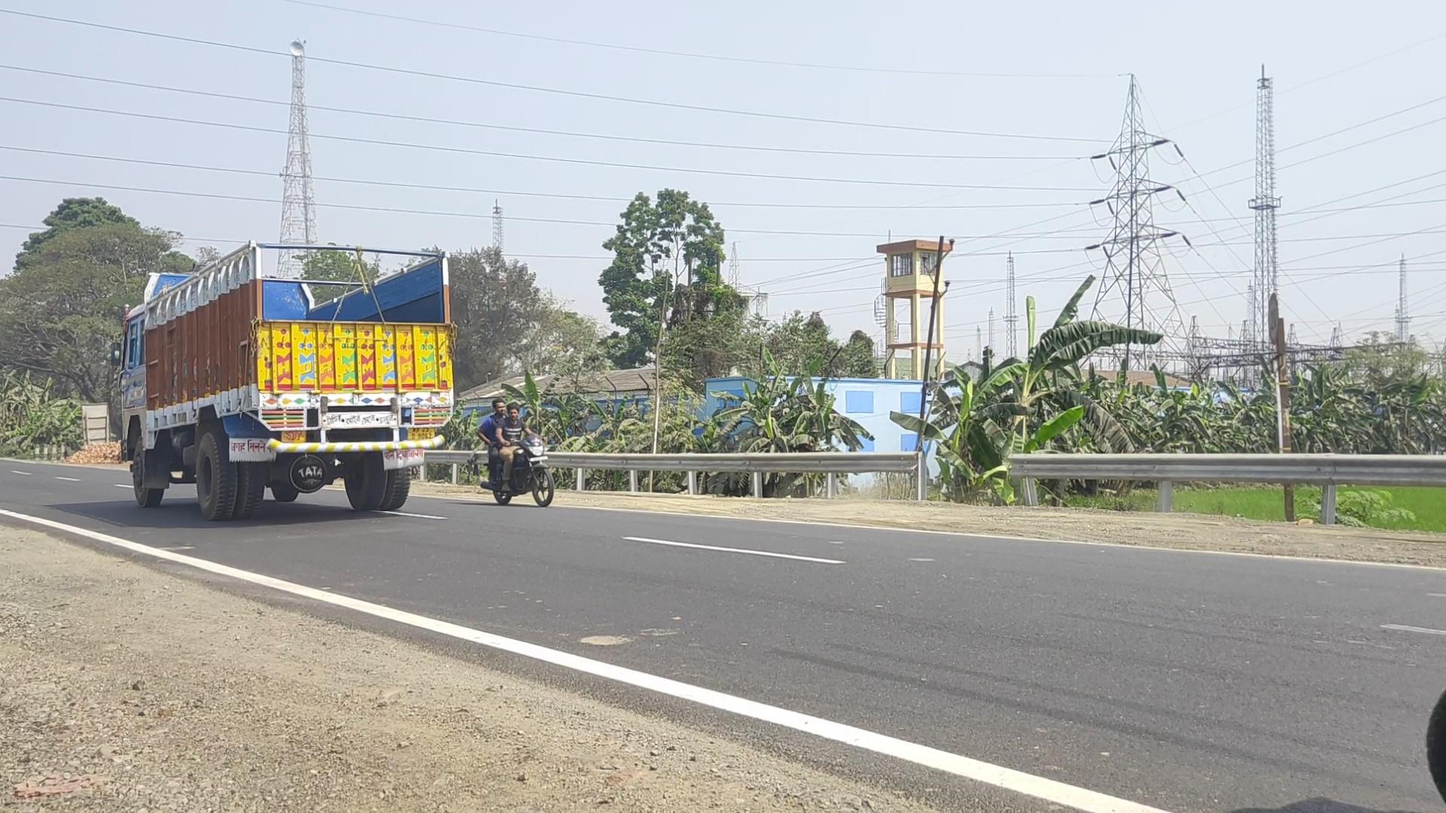bike: (477, 400, 554, 507)
truck: (110, 239, 457, 522)
